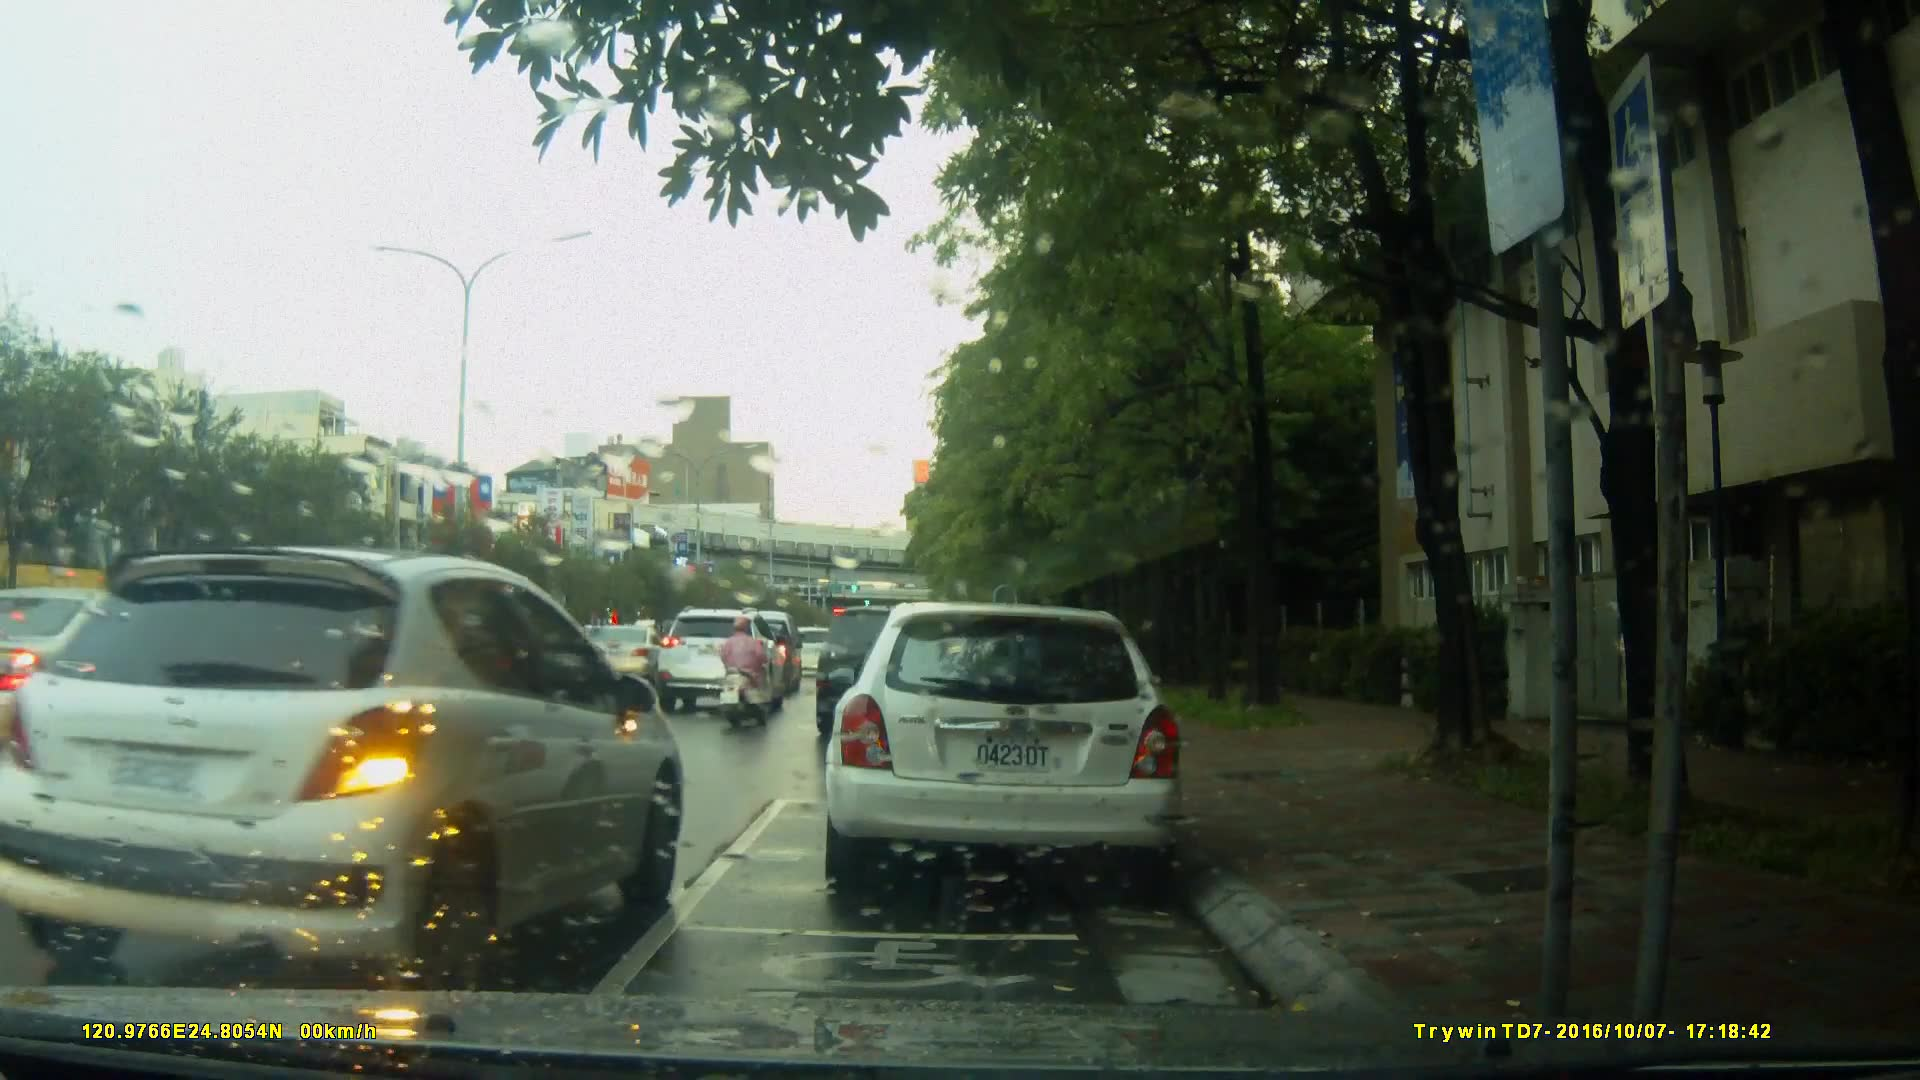rider: (714, 610, 770, 735)
vehicle: (3, 543, 687, 988), (820, 602, 1188, 898), (655, 608, 787, 718)
